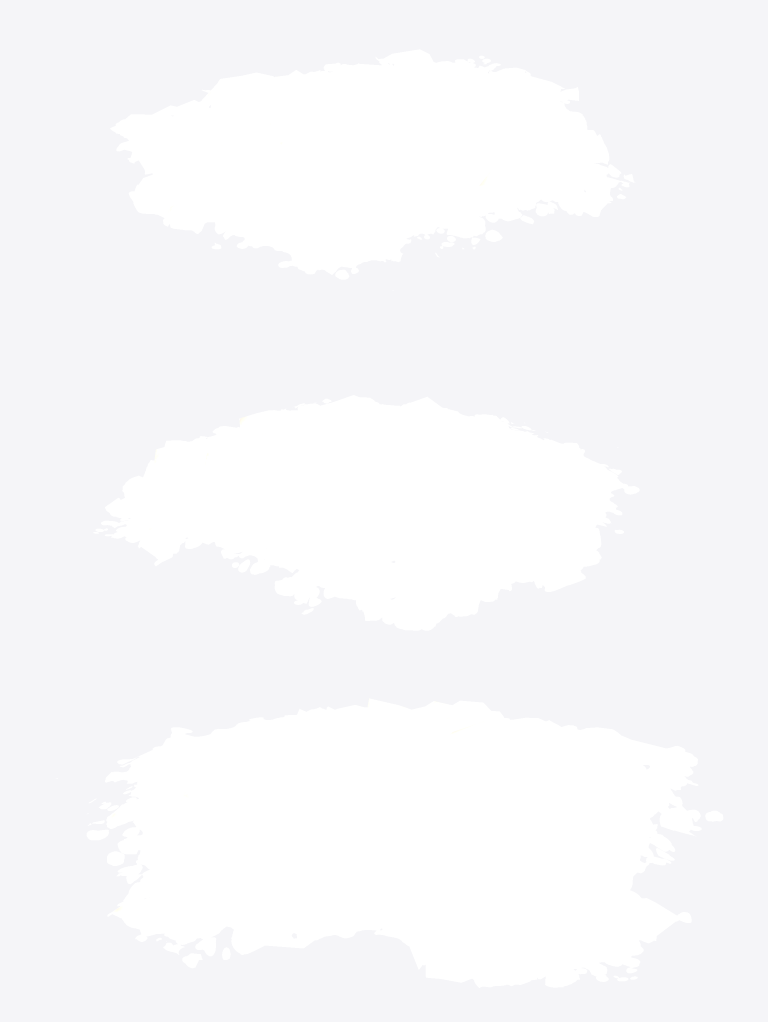
The model's file is Rubble_DesertStone.fbx.
3 renders of one model, top to bottom at view 1: azimuth 30°, elevation 25°; view 2: azimuth 150°, elevation 25°; view 3: azimuth 270°, elevation 25°, orthographic. The views are drawn at different scales.
Parts seen in each view (by area): view 1: HL_Desert_Rock_Rubble_A.001; view 2: HL_Desert_Rock_Rubble_A.001; view 3: HL_Desert_Rock_Rubble_A.001.
Boxes of the visible parts, box(x1,y1,x2,y2) form: HL_Desert_Rock_Rubble_A.001: box(110, 49, 635, 290); HL_Desert_Rock_Rubble_A.001: box(93, 395, 639, 630); HL_Desert_Rock_Rubble_A.001: box(56, 698, 723, 987).
Size of the model in its own units: 13688 by 1591 by 13692.
1 material, 1 textured.
